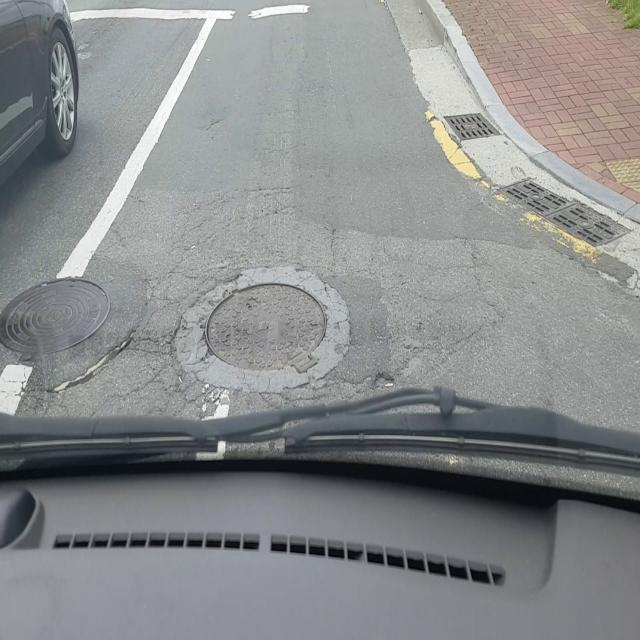Pothole: (169, 259, 354, 401)
